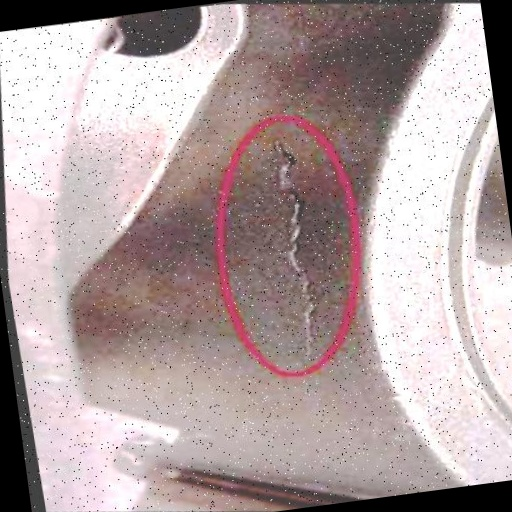crack: (222, 128, 358, 376)
